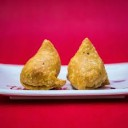samosa: (21, 38, 62, 88), (68, 37, 108, 88)
